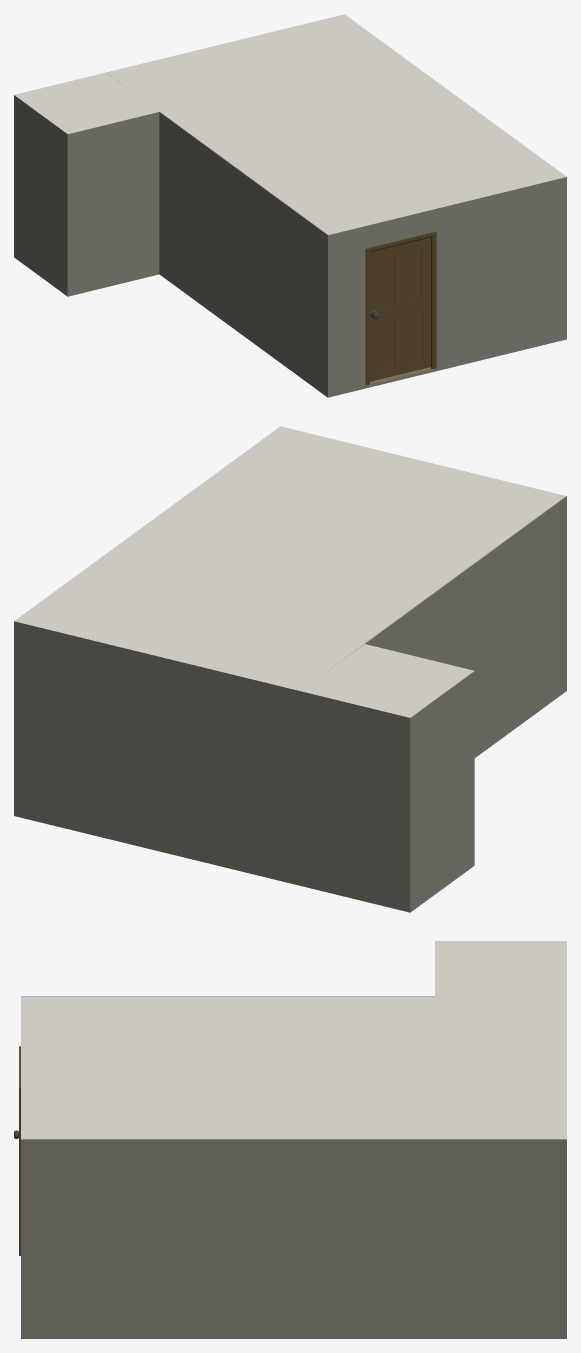
3 renders of one model, top to bottom at view 1: azimuth 30°, elevation 25°; view 2: azimuth 150°, elevation 25°; view 3: azimuth 270°, elevation 25°, orthographic. The views are drawn at different scales.
Visible parts, largest first — view 1: Room, OutsideDoor, OutsideDoorFrame; view 2: Room; view 3: Room.
Boxes of the visible parts, left/top/right/bottom form: Room: left=14, top=14, right=566, bottom=397; OutsideDoor: left=370, top=237, right=430, bottom=381; OutsideDoorFrame: left=365, top=231, right=436, bottom=385; Room: left=14, top=426, right=566, bottom=912; Room: left=21, top=941, right=566, bottom=1338.
Bounding box in the file's own units: 21.3 × 10 × 25.11.
20 materials, 20 textured.
